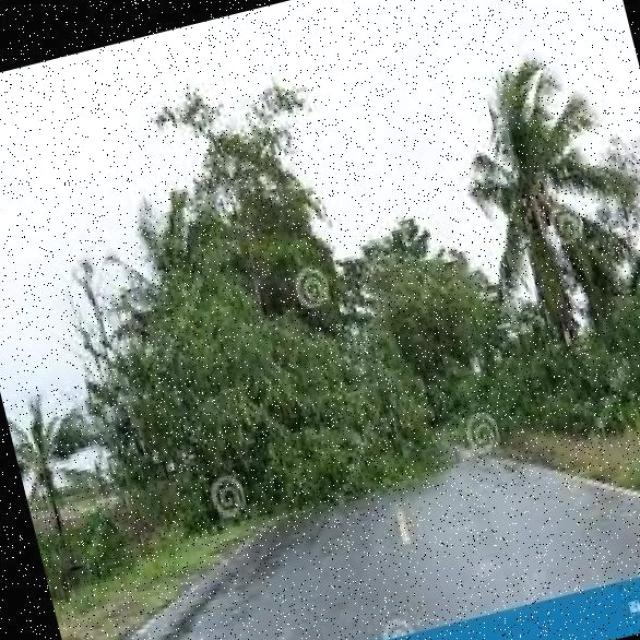fallen_object: (157, 275, 490, 542)
